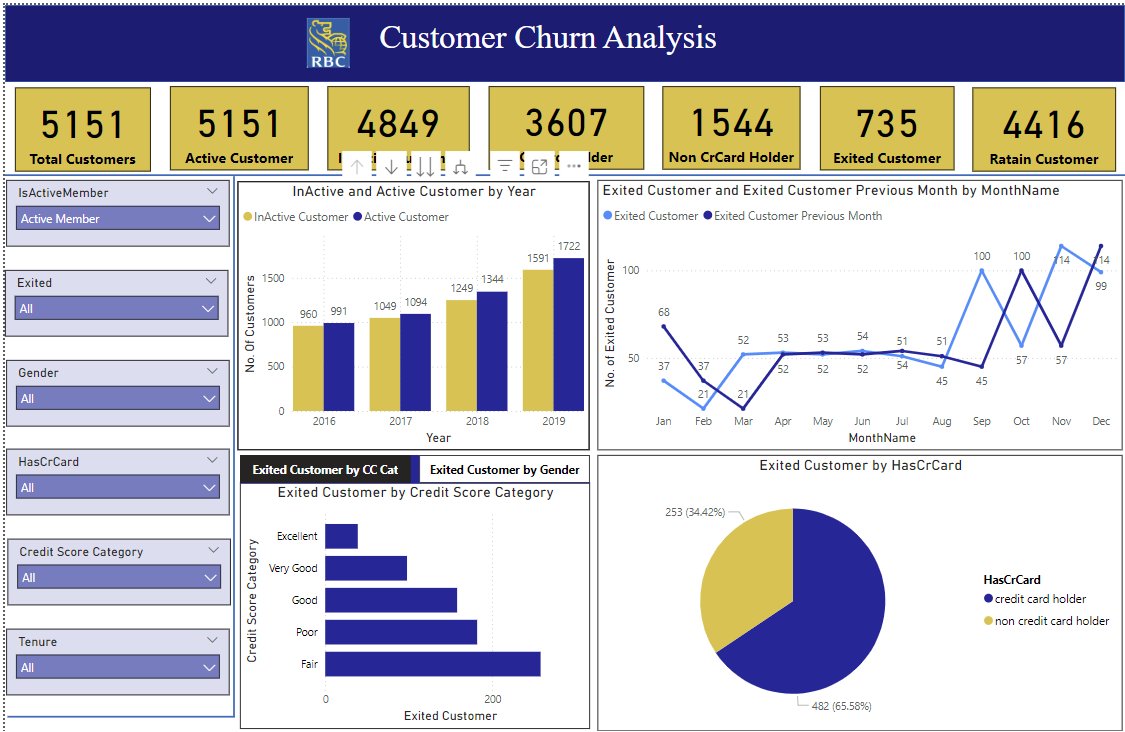

What the dashboard file says about the page in this screenshot:
{"tool":"powerbi","page":{"name":"Churn Analysis","canvas":[1280,850],"ordinal":0},"visuals":[{"type":"card","fields":{"Values":["Count(Bank_Churn.CustomerId)"]},"box":[11.2,93.8,155,96.2],"z":0},{"type":"card","fields":{"Values":["Table.Active Customer"]},"box":[187.9,92.7,158.8,96.2],"z":1000},{"type":"card","fields":{"Values":["Table.InActive Customer"]},"box":[368.3,92.7,162.5,96.2],"z":2000},{"type":"card","fields":{"Values":["Table.CrCard Holder"]},"box":[552.5,92.5,177.5,95],"z":3000},{"type":"card","fields":{"Values":["Table.Non CrCard Holder"]},"box":[751.7,92.7,157.5,95],"z":4000},{"type":"card","fields":{"Values":["Table.Exited Customer"]},"box":[930.8,92.7,153.8,96.2],"z":5000},{"type":"card","fields":{"Values":["Table.Ratain Customer"]},"box":[1106.2,93.8,163.8,96.2],"z":6000},{"type":"shape","box":[0,0,1280,88.3],"z":7000},{"type":"image","box":[318.3,10,101.7,66.7],"z":8000},{"type":"textbox","box":[416.7,10,406.7,53.3],"z":9000},{"type":"shape","box":[0,186.2,1280,17.5],"z":10000},{"type":"shape","box":[256,196,12,618],"z":11000},{"type":"slicer","fields":{"Values":["Bank_Churn.IsActiveMember"]},"box":[1.2,200,255,76.2],"z":12000},{"type":"slicer","fields":{"Values":["Bank_Churn.Exited"]},"box":[0,302.5,255,76.2],"z":13000},{"type":"slicer","fields":{"Values":["Bank_Churn.Gender"]},"box":[1.2,405,255,76.2],"z":14000},{"type":"slicer","fields":{"Values":["Bank_Churn.HasCrCard"]},"box":[1.2,507.5,255,76.2],"z":15000},{"type":"slicer","fields":{"Values":["Bank_Churn.Credit Score Category"]},"box":[2.5,610,255,76.2],"z":16000},{"type":"slicer","fields":{"Values":["Bank_Churn.Tenure"]},"box":[1.2,712.5,255,76.2],"z":17000},{"type":"shape","box":[2.5,807.5,260,12.5],"z":18000},{"type":"clusteredColumnChart","title":"InActive and Active Customer by Year","fields":{"Y":["Table.InActive Customer","Table.Active Customer"],"Category":["DateTable.Date.Variation.Date Hierarchy.Year","DateTable.MonthName"]},"box":[266.2,201.2,402.5,307.5],"z":19000},{"type":"lineChart","fields":{"Y":["Table.Exited Customer","Table.Exited Customer Previous Month"],"Category":["DateTable.Date.Variation.Date Hierarchy.Year","DateTable.MonthName"]},"box":[677.5,200,600,308.8],"z":20000},{"type":"donutChart","fields":{"Category":["Bank_Churn.Gender"],"Y":["CountNonNull(Bank_Churn.Exited)"]},"box":[268.8,546.2,400,283.8],"z":21000},{"type":"pieChart","fields":{"Category":["Bank_Churn.HasCrCard"],"Y":["Table.Exited Customer"]},"box":[677.1,514.3,600,315.7],"z":23000},{"type":"bookmarkNavigator","box":[268.8,513.8,400,32.5],"z":24000}]}

Visuals, with their boxes in screenshot pixels (x1, y1, x2, y2), scaled from the page's 1280x850 canvas onto the 1125x732 screenshot:
card - Count(Bank_Churn.CustomerId): <region>10, 81, 146, 164</region>
card - Table.Active Customer: <region>165, 80, 305, 163</region>
card - Table.InActive Customer: <region>324, 80, 467, 163</region>
card - Table.CrCard Holder: <region>486, 80, 642, 161</region>
card - Table.Non CrCard Holder: <region>661, 80, 799, 162</region>
card - Table.Exited Customer: <region>818, 80, 953, 163</region>
card - Table.Ratain Customer: <region>972, 81, 1116, 164</region>
shape: <region>0, 0, 1124, 76</region>
image: <region>280, 9, 369, 66</region>
textbox: <region>366, 9, 724, 55</region>
shape: <region>0, 160, 1124, 175</region>
shape: <region>225, 169, 236, 701</region>
slicer - Bank_Churn.IsActiveMember: <region>1, 172, 225, 238</region>
slicer - Bank_Churn.Exited: <region>0, 261, 224, 326</region>
slicer - Bank_Churn.Gender: <region>1, 349, 225, 414</region>
slicer - Bank_Churn.HasCrCard: <region>1, 437, 225, 503</region>
slicer - Bank_Churn.Credit Score Category: <region>2, 525, 226, 591</region>
slicer - Bank_Churn.Tenure: <region>1, 614, 225, 679</region>
shape: <region>2, 695, 231, 706</region>
"InActive and Active Customer by Year" clusteredColumnChart: <region>234, 173, 588, 438</region>
lineChart - Table.Exited Customer x Table.Exited Customer Previous Month: <region>595, 172, 1123, 438</region>
donutChart - Bank_Churn.Gender x CountNonNull(Bank_Churn.Exited): <region>236, 470, 588, 715</region>
pieChart - Bank_Churn.HasCrCard x Table.Exited Customer: <region>595, 443, 1122, 715</region>
bookmarkNavigator: <region>236, 442, 588, 470</region>
